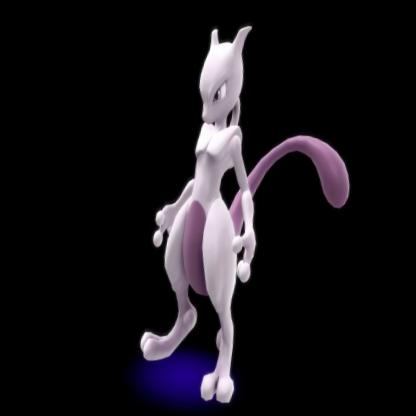Mewtwo: (66, 30, 351, 416)
